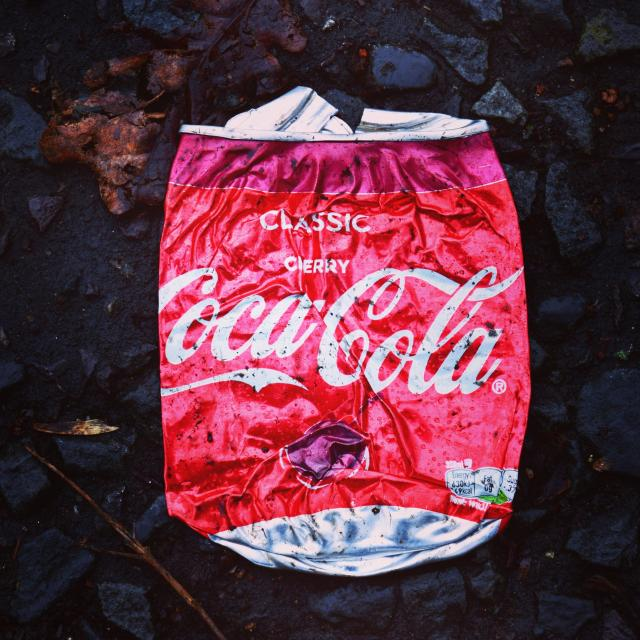metal: (169, 121, 522, 552)
